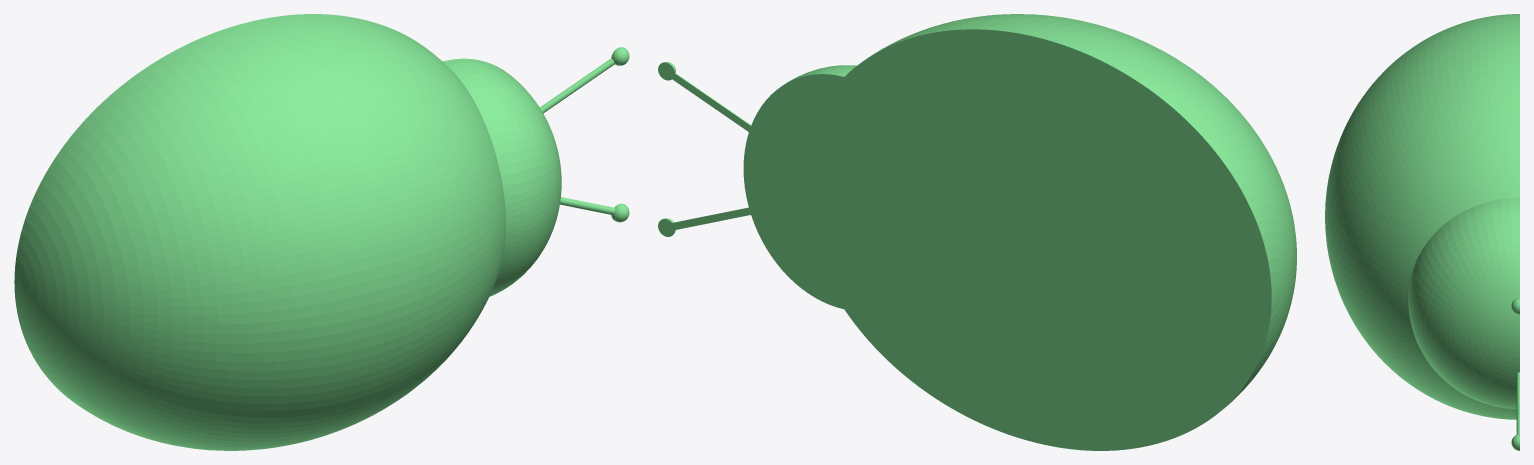
The model's file is Body.fbx.
3 views of the same model, side by side, from view 1: azimuth 30°, elevation 25°; view 2: azimuth 150°, elevation 25°; view 3: azimuth 270°, elevation 25° (orthographic). The views are drawn at different scales.
Parts seen in each view (by area): view 1: Body; view 2: Body; view 3: Body.
Part boxes in pixels (left/top/right/bottom): Body: left=14, top=14, right=629, bottom=450; Body: left=658, top=14, right=1296, bottom=450; Body: left=1325, top=14, right=1519, bottom=450.
Bounding box in the file's own units: 1.46 × 0.7275 × 2.3.
